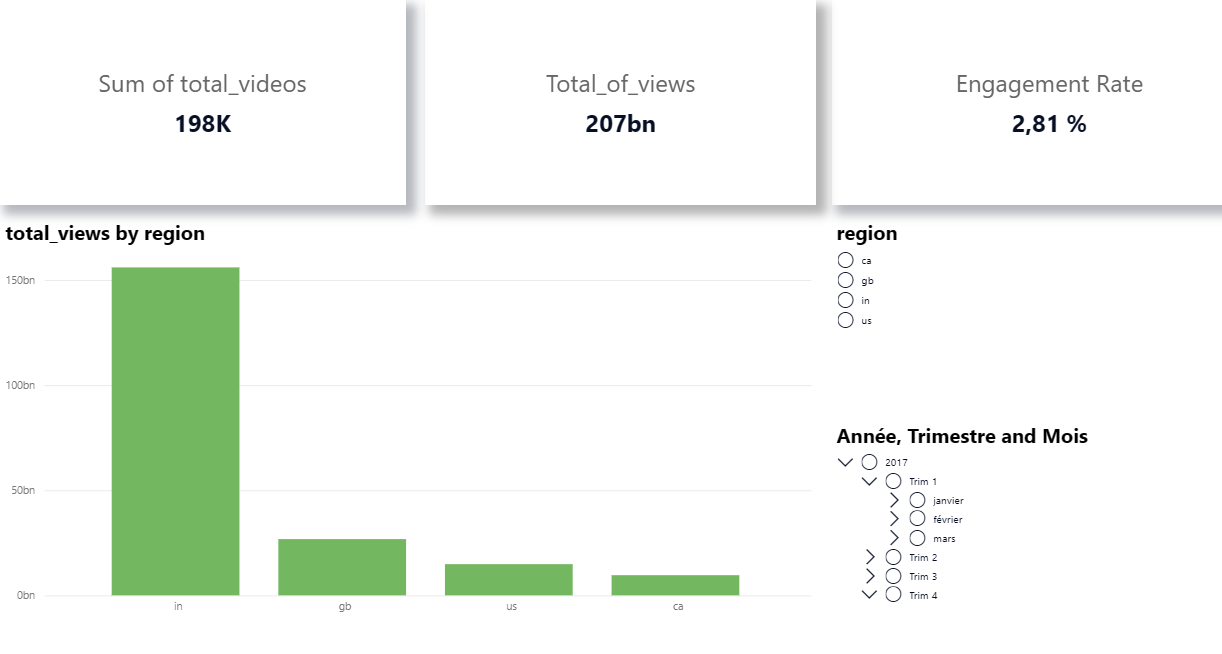

What the dashboard file says about the page in this screenshot:
{"tool":"powerbi","page":{"name":"Trending Overview","canvas":[1280,720],"ordinal":0},"visuals":[{"type":"cardVisual","fields":{"Data":["Sum(trending_analytics.total_videos)"]},"box":[0,0,407.5,205],"z":0},{"type":"cardVisual","fields":{"Data":["Sum(trending_analytics.total_views)"]},"box":[426.8,0,391.1,204.5],"z":1000},{"type":"columnChart","title":"total_views by region","fields":{"Category":["trending_analytics.region"],"Y":["Sum(trending_analytics.total_views)"]},"box":[1.4,218.2,816.5,404.8],"z":2000},{"type":"listSlicer","fields":{"Values":["trending_analytics.region"]},"box":[832.9,218.2,436.4,203.1],"z":3000},{"type":"listSlicer","fields":{"Values":["trending_analytics.trending_date_parsed.Variation.Hiérarchie de dates.Année","trending_analytics.trending_date_parsed.Variation.Hiérarchie de dates.Trimestre","trending_analytics.trending_date_parsed.Variation.Hiérarchie de dates.Mois","trending_analytics.trending_date_parsed.Variation.Hiérarchie de dates.Jour"]},"box":[832.9,421.3,436.4,192.1],"z":4000},{"type":"cardVisual","fields":{"Data":["trending_analytics.Engagement Rate"]},"box":[832.9,0,436.4,204.5],"z":5000}]}

Visuals, with their boxes on the page's 1280x720 design canvas (x1, y1, x2, y2). These are canvas units, not pixel positions in the 1222x654 screenshot, which may show the page scaled, cropped or inside an application window:
cardVisual - Sum(trending_analytics.total_videos): <bbox>0, 0, 408, 205</bbox>
cardVisual - Sum(trending_analytics.total_views): <bbox>427, 0, 818, 204</bbox>
"total_views by region" columnChart: <bbox>1, 218, 818, 623</bbox>
listSlicer - trending_analytics.region: <bbox>833, 218, 1269, 421</bbox>
listSlicer - trending_analytics.trending_date_parsed.Variation.Hiérarchie de dates.Année x trending_analytics.trending_date_parsed.Variation.Hiérarchie de dates.Trimestre: <bbox>833, 421, 1269, 613</bbox>
cardVisual - trending_analytics.Engagement Rate: <bbox>833, 0, 1269, 204</bbox>
